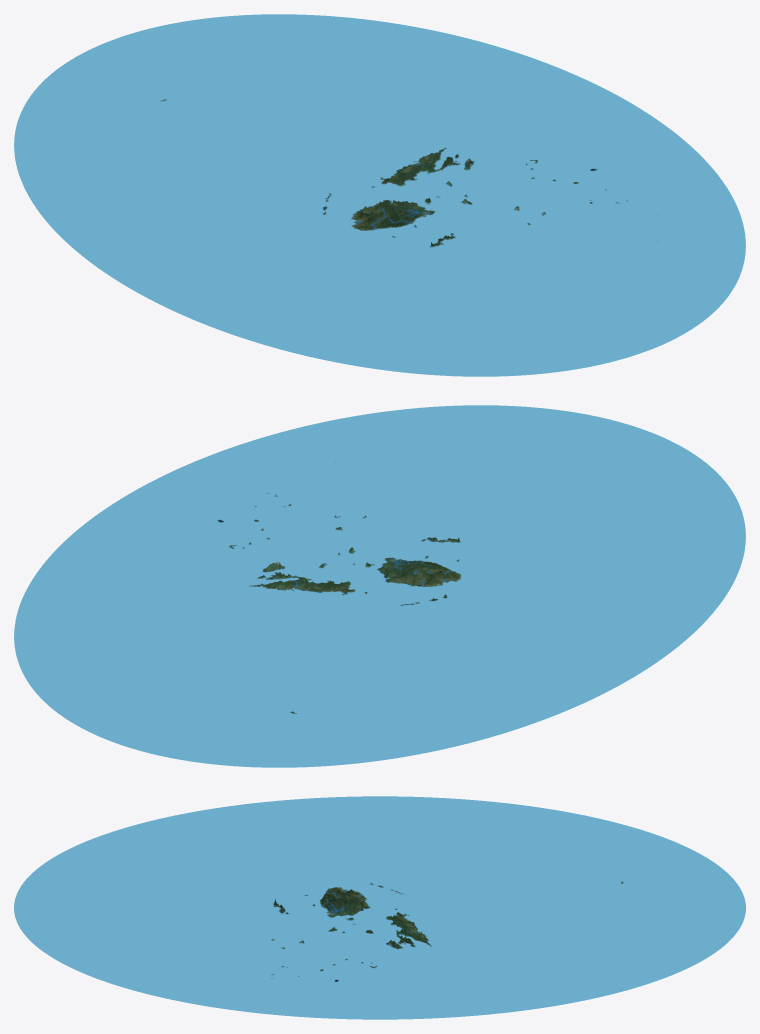
The model's file is FJI-previa-terrain.glb.
The picture shows the model from 3 angles, top to bottom: view 1: azimuth 30°, elevation 25°; view 2: azimuth 150°, elevation 25°; view 3: azimuth 270°, elevation 25°; orthographic projection. The views are drawn at different scales.
Visible parts, largest first — view 1: Fiji; view 2: Fiji; view 3: Fiji.
Part boxes in pixels (left/top/right/bottom): Fiji: left=14, top=14, right=745, bottom=376; Fiji: left=14, top=405, right=745, bottom=767; Fiji: left=14, top=796, right=745, bottom=1019.
Bounding box in the file's own units: 1.91 × 0.024 × 2.65.
1 material, 1 textured.
